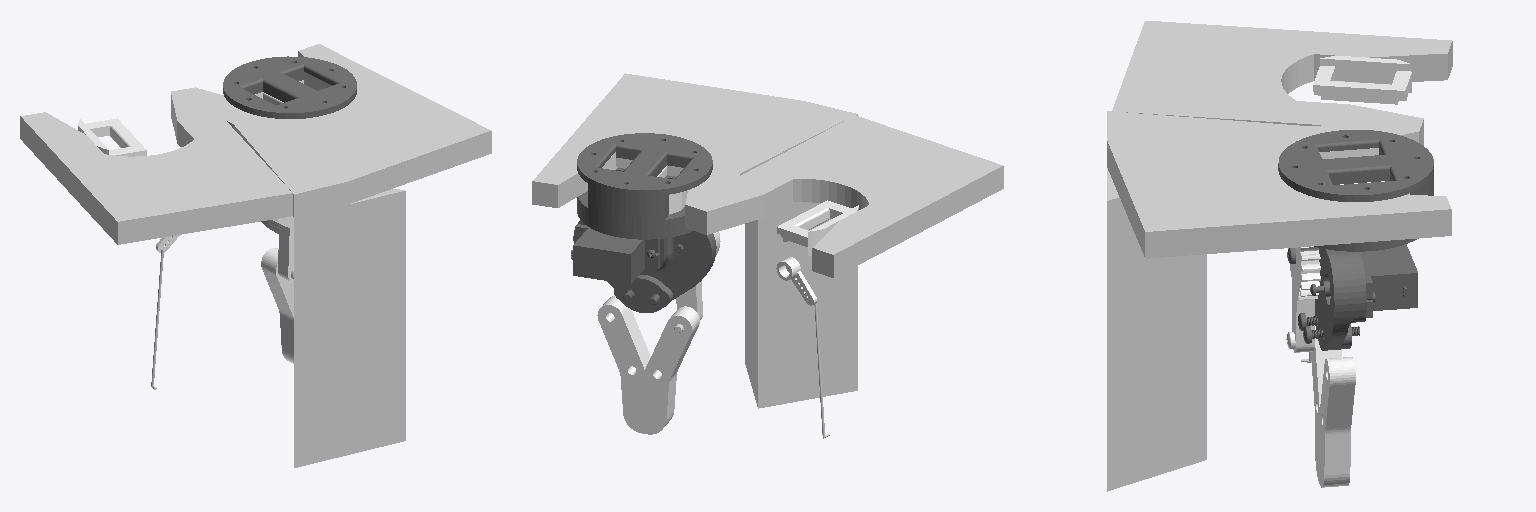
URDF robot description (holdassem):
<?xml version="1.0" encoding="utf-8"?>
<!-- This URDF was automatically created by SolidWorks to URDF Exporter! Originally created by Stephen Brawner (brawner@gmail.com) 
     Commit Version: 1.6.0-4-g7f85cfe  Build Version: 1.6.7995.38578
     For more information, please see http://wiki.ros.org/sw_urdf_exporter -->
<robot
  name="holdassem">
  <link
    name="hbase">
    <inertial>
      <origin
        xyz="-0.0080385 0.021105 0.086708"
        rpy="0 0 0" />
      <mass
        value="0.21146" />
      <inertia
        ixx="0.0001836"
        ixy="1.1259E-06"
        ixz="4.5959E-06"
        iyy="0.00016487"
        iyz="-4.0686E-06"
        izz="0.00016525" />
    </inertial>
    <visual>
      <origin
        xyz="0 0 0"
        rpy="0 0 0" />
      <geometry>
        <mesh
          filename="package://holdassem/meshes/hbase.STL" />
      </geometry>
      <material
        name="">
        <color
          rgba="0.89412 0.89412 0.89412 1" />
      </material>
    </visual>
    <collision>
      <origin
        xyz="0 0 0"
        rpy="0 0 0" />
      <geometry>
        <mesh
          filename="package://holdassem/meshes/hbase.STL" />
      </geometry>
    </collision>
  </link>
  <link
    name="connector">
    <inertial>
      <origin
        xyz="0.00275 -0.00097993 -0.022656"
        rpy="0 0 0" />
      <mass
        value="0.044045" />
      <inertia
        ixx="1.1484E-05"
        ixy="2.3397E-07"
        ixz="6.6588E-07"
        iyy="1.0882E-05"
        iyz="-1.188E-06"
        izz="1.1654E-05" />
    </inertial>
    <visual>
      <origin
        xyz="0 0 0"
        rpy="0 0 0" />
      <geometry>
        <mesh
          filename="package://holdassem/meshes/connector.STL" />
      </geometry>
      <material
        name="">
        <color
          rgba="0.5 0.5 0.5 1" />
      </material>
    </visual>
    <collision>
      <origin
        xyz="0 0 0"
        rpy="0 0 0" />
      <geometry>
        <mesh
          filename="package://holdassem/meshes/connector.STL" />
      </geometry>
    </collision>
  </link>
  <joint
    name="jconnector"
    type="prismatic">
    <origin
      xyz="0.020445 0.069272 0.115"
      rpy="0 0 0" />
    <parent
      link="hbase" />
    <child
      link="connector" />
    <axis
      xyz="0.17365 -0.98481 0" />
    <limit
      lower="0"
      upper="0.04"
      effort="0"
      velocity="0" />
  </joint>
  <link
    name="sgear">
    <inertial>
      <origin
        xyz="-0.00090699 0.0018177 -0.0067816"
        rpy="0 0 0" />
      <mass
        value="0.0055987" />
      <inertia
        ixx="6.5667E-07"
        ixy="-1.7917E-08"
        ixz="-3.3845E-09"
        iyy="7.5417E-07"
        iyz="1.0732E-08"
        izz="1.3426E-07" />
    </inertial>
    <visual>
      <origin
        xyz="0 0 0"
        rpy="0 0 0" />
      <geometry>
        <mesh
          filename="package://holdassem/meshes/sgear.STL" />
      </geometry>
      <material
        name="">
        <color
          rgba="1 1 1 1" />
      </material>
    </visual>
    <collision>
      <origin
        xyz="0 0 0"
        rpy="0 0 0" />
      <geometry>
        <mesh
          filename="package://holdassem/meshes/sgear.STL" />
      </geometry>
    </collision>
  </link>
  <joint
    name="jsgear"
    type="revolute">
    <origin
      xyz="0.018779 -0.014646 -0.0365"
      rpy="0 0 0" />
    <parent
      link="connector" />
    <child
      link="sgear" />
    <axis
      xyz="0.17365 -0.98481 0" />
    <limit
      lower="-0.8"
      upper="0"
      effort="0"
      velocity="0" />
  </joint>
  <link
    name="sfinger">
    <inertial>
      <origin
        xyz="-0.0061362 -0.001082 -0.019217"
        rpy="0 0 0" />
      <mass
        value="0.0049563" />
      <inertia
        ixx="9.4935E-07"
        ixy="-1.1677E-08"
        ixz="-2.1279E-07"
        iyy="1.0135E-06"
        iyz="-3.752E-08"
        izz="1.2796E-07" />
    </inertial>
    <visual>
      <origin
        xyz="0 0 0"
        rpy="0 0 0" />
      <geometry>
        <mesh
          filename="package://holdassem/meshes/sfinger.STL" />
      </geometry>
      <material
        name="">
        <color
          rgba="1 1 1 1" />
      </material>
    </visual>
    <collision>
      <origin
        xyz="0 0 0"
        rpy="0 0 0" />
      <geometry>
        <mesh
          filename="package://holdassem/meshes/sfinger.STL" />
      </geometry>
    </collision>
  </link>
  <joint
    name="jsfinger"
    type="revolute">
    <origin
      xyz="-0.0026832 0.0094781 -0.030734"
      rpy="0 0 0" />
    <parent
      link="sgear" />
    <child
      link="sfinger" />
    <axis
      xyz="0.17365 -0.98481 0" />
    <limit
      lower="0"
      upper="0.8"
      effort="0"
      velocity="0" />
    <mimic
      joint="jsgear"
      multiplier="-1"
      offset="0" />
  </joint>
  <link
    name="slink">
    <inertial>
      <origin
        xyz="-0.0014048 0.0058969 -0.016516"
        rpy="0 0 0" />
      <mass
        value="0.002206" />
      <inertia
        ixx="2.7018E-07"
        ixy="8.5815E-11"
        ixz="-5.4876E-09"
        iyy="2.6971E-07"
        iyz="-9.6761E-10"
        izz="1.427E-08" />
    </inertial>
    <visual>
      <origin
        xyz="0 0 0"
        rpy="0 0 0" />
      <geometry>
        <mesh
          filename="package://holdassem/meshes/slink.STL" />
      </geometry>
      <material
        name="">
        <color
          rgba="1 1 1 1" />
      </material>
    </visual>
    <collision>
      <origin
        xyz="0 0 0"
        rpy="0 0 0" />
      <geometry>
        <mesh
          filename="package://holdassem/meshes/slink.STL" />
      </geometry>
    </collision>
  </link>
  <joint
    name="jslink"
    type="revolute">
    <origin
      xyz="0.0093974 -0.012696 -0.0565"
      rpy="0 0 0" />
    <parent
      link="connector" />
    <child
      link="slink" />
    <axis
      xyz="0.17365 -0.98481 0" />
    <limit
      lower="-0.8"
      upper="0"
      effort="0"
      velocity="0" />
    <mimic
      joint="jsgear"
      multiplier="1"
      offset="0" />
  </joint>
  <link
    name="gear">
    <inertial>
      <origin
        xyz="0.0003177 0.00011857 -0.0062925"
        rpy="0 0 0" />
      <mass
        value="0.0052567" />
      <inertia
        ixx="7.2033E-07"
        ixy="-2.563E-08"
        ixz="-3.8505E-08"
        iyy="8.6117E-07"
        iyz="-6.7894E-09"
        izz="1.8982E-07" />
    </inertial>
    <visual>
      <origin
        xyz="0 0 0"
        rpy="0 0 0" />
      <geometry>
        <mesh
          filename="package://holdassem/meshes/gear.STL" />
      </geometry>
      <material
        name="">
        <color
          rgba="1 1 1 1" />
      </material>
    </visual>
    <collision>
      <origin
        xyz="0 0 0"
        rpy="0 0 0" />
      <geometry>
        <mesh
          filename="package://holdassem/meshes/gear.STL" />
      </geometry>
    </collision>
  </link>
  <joint
    name="gear"
    type="revolute">
    <origin
      xyz="-0.0081555 -0.016806 -0.0365"
      rpy="0 0 0" />
    <parent
      link="connector" />
    <child
      link="gear" />
    <axis
      xyz="-0.17365 0.98481 0" />
    <limit
      lower="-0.8"
      upper="0"
      effort="0"
      velocity="0" />
    <mimic
      joint="jsgear"
      multiplier="1"
      offset="0" />
  </joint>
  <link
    name="finger">
    <inertial>
      <origin
        xyz="0.0061173 0.0010787 -0.019223"
        rpy="0 0 0" />
      <mass
        value="0.0049563" />
      <inertia
        ixx="9.4977E-07"
        ixy="-1.1603E-08"
        ixz="2.1198E-07"
        iyy="1.0135E-06"
        iyz="3.7378E-08"
        izz="1.2753E-07" />
    </inertial>
    <visual>
      <origin
        xyz="0 0 0"
        rpy="0 0 0" />
      <geometry>
        <mesh
          filename="package://holdassem/meshes/finger.STL" />
      </geometry>
      <material
        name="">
        <color
          rgba="1 1 1 1" />
      </material>
    </visual>
    <collision>
      <origin
        xyz="0 0 0"
        rpy="0 0 0" />
      <geometry>
        <mesh
          filename="package://holdassem/meshes/finger.STL" />
      </geometry>
    </collision>
  </link>
  <joint
    name="jfinger"
    type="revolute">
    <origin
      xyz="-0.0024724 0.0069259 -0.030725"
      rpy="0 0 0" />
    <parent
      link="gear" />
    <child
      link="finger" />
    <axis
      xyz="-0.17365 0.98481 0" />
    <limit
      lower="0"
      upper="0.8"
      effort="0"
      velocity="0" />
    <mimic
      joint="gear"
      multiplier="-1"
      offset="0" />
  </joint>
  <link
    name="link">
    <inertial>
      <origin
        xyz="-0.0014048 0.0058969 -0.016516"
        rpy="0 0 0" />
      <mass
        value="0.002206" />
      <inertia
        ixx="2.7018E-07"
        ixy="8.5815E-11"
        ixz="-5.4876E-09"
        iyy="2.6971E-07"
        iyz="-9.6761E-10"
        izz="1.427E-08" />
    </inertial>
    <visual>
      <origin
        xyz="0 0 0"
        rpy="0 0 0" />
      <geometry>
        <mesh
          filename="package://holdassem/meshes/link.STL" />
      </geometry>
      <material
        name="">
        <color
          rgba="1 1 1 1" />
      </material>
    </visual>
    <collision>
      <origin
        xyz="0 0 0"
        rpy="0 0 0" />
      <geometry>
        <mesh
          filename="package://holdassem/meshes/link.STL" />
      </geometry>
    </collision>
  </link>
  <joint
    name="jlink"
    type="revolute">
    <origin
      xyz="-0.00045071 -0.014432 -0.0565"
      rpy="0 0 0" />
    <parent
      link="connector" />
    <child
      link="link" />
    <axis
      xyz="0.17365 -0.98481 0" />
    <limit
      lower="0"
      upper="0.8"
      effort="0"
      velocity="0" />
    <mimic
      joint="gear"
      multiplier="-1"
      offset="0" />
  </joint>
  <link
    name="button1">
    <inertial>
      <origin
        xyz="-0.78409 -0.83398 -1.2914"
        rpy="0 0 0" />
      <mass
        value="0.0018987" />
      <inertia
        ixx="1.633E-07"
        ixy="1.3685E-08"
        ixz="3.6803E-10"
        iyy="8.8105E-08"
        iyz="6.4894E-11"
        izz="2.3438E-07" />
    </inertial>
    <visual>
      <origin
        xyz="0 0 0"
        rpy="0 0 0" />
      <geometry>
        <mesh
          filename="package://holdassem/meshes/button1.STL" />
      </geometry>
      <material
        name="">
        <color
          rgba="1 1 1 1" />
      </material>
    </visual>
    <collision>
      <origin
        xyz="0 0 0"
        rpy="0 0 0" />
      <geometry>
        <mesh
          filename="package://holdassem/meshes/button1.STL" />
      </geometry>
    </collision>
  </link>
  <joint
    name="jbutton1"
    type="prismatic">
    <origin
      xyz="0.79372 0.83568 1.284"
      rpy="0 0 0" />
    <parent
      link="connector" />
    <child
      link="button1" />
    <axis
      xyz="0.98481 0.17365 0" />
    <limit
      lower="-0.004"
      upper="0"
      effort="0"
      velocity="0" />
  </joint>
  <link
    name="button2">
    <inertial>
      <origin
        xyz="-0.81402 -0.83738 -1.2914"
        rpy="0 0 0" />
      <mass
        value="0.0018987" />
      <inertia
        ixx="1.633E-07"
        ixy="1.3685E-08"
        ixz="-3.6803E-10"
        iyy="8.8105E-08"
        iyz="-6.4894E-11"
        izz="2.3438E-07" />
    </inertial>
    <visual>
      <origin
        xyz="0 0 0"
        rpy="0 0 0" />
      <geometry>
        <mesh
          filename="package://holdassem/meshes/button2.STL" />
      </geometry>
      <material
        name="">
        <color
          rgba="1 1 1 1" />
      </material>
    </visual>
    <collision>
      <origin
        xyz="0 0 0"
        rpy="0 0 0" />
      <geometry>
        <mesh
          filename="package://holdassem/meshes/button2.STL" />
      </geometry>
    </collision>
  </link>
  <joint
    name="jbutton2"
    type="prismatic">
    <origin
      xyz="0.80439 0.83568 1.284"
      rpy="0 0 0" />
    <parent
      link="connector" />
    <child
      link="button2" />
    <axis
      xyz="0.98481 0.17365 0" />
    <limit
      lower="0"
      upper="0.004"
      effort="0"
      velocity="0" />
    <mimic
      joint="jbutton1"
      multiplier="-1"
      offset="0" />
  </joint>
  <link
    name="mconnector">
    <inertial>
      <origin
        xyz="0 0 0"
        rpy="0 0 0" />
      <mass
        value="0" />
      <inertia
        ixx="0"
        ixy="0"
        ixz="0"
        iyy="0"
        iyz="0"
        izz="0" />
    </inertial>
    <visual>
      <origin
        xyz="0 0 0"
        rpy="0 0 0" />
      <geometry>
        <mesh
          filename="package://holdassem/meshes/mconnector.STL" />
      </geometry>
      <material
        name="">
        <color
          rgba="0.5 0.5 0.5 1" />
      </material>
    </visual>
    <collision>
      <origin
        xyz="0 0 0"
        rpy="0 0 0" />
      <geometry>
        <mesh
          filename="package://holdassem/meshes/mconnector.STL" />
      </geometry>
    </collision>
  </link>
  <joint
    name="jmconnector"
    type="prismatic">
    <origin
      xyz="-0.046918 0.070176 0.115"
      rpy="0 0 0" />
    <parent
      link="hbase" />
    <child
      link="mconnector" />
    <axis
      xyz="-0.15239 -0.98832 0" />
    <limit
      lower="0"
      upper="0.04"
      effort="0"
      velocity="0" />
  </joint>
  <link
    name="horn">
    <inertial>
      <origin
        xyz="-0.0024811 0.001454 -0.0028938"
        rpy="0 0 0" />
      <mass
        value="0.0017572" />
      <inertia
        ixx="3.3277E-08"
        ixy="-3.9132E-11"
        ixz="-2.2877E-08"
        iyy="5.8263E-08"
        iyz="-6.3455E-10"
        izz="3.0303E-08" />
    </inertial>
    <visual>
      <origin
        xyz="0 0 0"
        rpy="0 0 0" />
      <geometry>
        <mesh
          filename="package://holdassem/meshes/horn.STL" />
      </geometry>
      <material
        name="">
        <color
          rgba="1 1 1 1" />
      </material>
    </visual>
    <collision>
      <origin
        xyz="0 0 0"
        rpy="0 0 0" />
      <geometry>
        <mesh
          filename="package://holdassem/meshes/horn.STL" />
      </geometry>
    </collision>
  </link>
  <joint
    name="jhorn"
    type="revolute">
    <origin
      xyz="0.013671 -0.016005 -0.0365"
      rpy="0 0 0" />
    <parent
      link="mconnector" />
    <child
      link="horn" />
    <axis
      xyz="0.15239 0.98832 0" />
    <limit
      lower="-0.8"
      upper="0"
      effort="0"
      velocity="0" />
  </joint>
  <link
    name="rod">
    <inertial>
      <origin
        xyz="-0.002235 -0.0011521 -0.027471"
        rpy="0 0 0" />
      <mass
        value="4.7921E-05" />
      <inertia
        ixx="1.4402E-08"
        ixy="-3.6172E-12"
        ixz="-1.0813E-09"
        iyy="1.4472E-08"
        iyz="-2.539E-11"
        izz="9.865E-11" />
    </inertial>
    <visual>
      <origin
        xyz="0 0 0"
        rpy="0 0 0" />
      <geometry>
        <mesh
          filename="package://holdassem/meshes/rod.STL" />
      </geometry>
      <material
        name="">
        <color
          rgba="0.89412 0.89412 0.89412 1" />
      </material>
    </visual>
    <collision>
      <origin
        xyz="0 0 0"
        rpy="0 0 0" />
      <geometry>
        <mesh
          filename="package://holdassem/meshes/rod.STL" />
      </geometry>
    </collision>
  </link>
  <joint
    name="jrod"
    type="revolute">
    <origin
      xyz="-0.0097633 0.0012314 -0.010608"
      rpy="0 0 0" />
    <parent
      link="horn" />
    <child
      link="rod" />
    <axis
      xyz="0.15239 0.98832 0" />
    <limit
      lower="0"
      upper="0.88"
      effort="0"
      velocity="0" />
    <mimic
      joint="jhorn"
      multiplier="-1.1"
      offset="0" />
  </joint>
  <link
    name="magnet">
    <inertial>
      <origin
        xyz="-2.299E-05 -0.00016933 -0.0038585"
        rpy="0 0 0" />
      <mass
        value="0.00040354" />
      <inertia
        ixx="3.4288E-09"
        ixy="3.1822E-13"
        ixz="1.2207E-23"
        iyy="3.4308E-09"
        iyz="-1.9447E-24"
        izz="4.9181E-09" />
    </inertial>
    <visual>
      <origin
        xyz="0 0 0"
        rpy="0 0 0" />
      <geometry>
        <mesh
          filename="package://holdassem/meshes/magnet.STL" />
      </geometry>
      <material
        name="">
        <color
          rgba="0 0 0 1" />
      </material>
    </visual>
    <collision>
      <origin
        xyz="0 0 0"
        rpy="0 0 0" />
      <geometry>
        <mesh
          filename="package://holdassem/meshes/magnet.STL" />
      </geometry>
    </collision>
  </link>
  <joint
    name="jmagnet"
    type="continuous">
    <origin
      xyz="-0.0044694 -0.0023041 -0.054933"
      rpy="0 0 0" />
    <parent
      link="rod" />
    <child
      link="magnet" />
    <axis
      xyz="0.15239 0.98832 0" />
    <limit
      lower="-0.8"
      upper="0"
      effort="0"
      velocity="0" />
    <mimic
      joint="jhorn"
      multiplier="0.1"
      offset="0" />
  </joint>
  <link
    name="mbutton1">
    <inertial>
      <origin
        xyz="0.0047248 -0.00072852 0.00013509"
        rpy="0 0 0" />
      <mass
        value="0.0018987" />
      <inertia
        ixx="1.6386E-07"
        ixy="-1.2053E-08"
        ixz="3.6935E-10"
        iyy="8.755E-08"
        iyz="-5.695E-11"
        izz="2.3438E-07" />
    </inertial>
    <visual>
      <origin
        xyz="0 0 0"
        rpy="0 0 0" />
      <geometry>
        <mesh
          filename="package://holdassem/meshes/mbutton1.STL" />
      </geometry>
      <material
        name="">
        <color
          rgba="1 1 1 1" />
      </material>
    </visual>
    <collision>
      <origin
        xyz="0 0 0"
        rpy="0 0 0" />
      <geometry>
        <mesh
          filename="package://holdassem/meshes/mbutton1.STL" />
      </geometry>
    </collision>
  </link>
  <joint
    name="jmbutton1"
    type="prismatic">
    <origin
      xyz="0.0049416 -0.00076195 -0.0075"
      rpy="0 0 0" />
    <parent
      link="mconnector" />
    <child
      link="mbutton1" />
    <axis
      xyz="0.98832 -0.15239 0" />
    <limit
      lower="-0.004"
      upper="0"
      effort="0"
      velocity="0" />
  </joint>
  <link
    name="mbutton2">
    <inertial>
      <origin
        xyz="-0.0047248 0.00072852 0.00013509"
        rpy="0 0 0" />
      <mass
        value="0.0018987" />
      <inertia
        ixx="1.6386E-07"
        ixy="-1.2053E-08"
        ixz="-3.6935E-10"
        iyy="8.755E-08"
        iyz="5.695E-11"
        izz="2.3438E-07" />
    </inertial>
    <visual>
      <origin
        xyz="0 0 0"
        rpy="0 0 0" />
      <geometry>
        <mesh
          filename="package://holdassem/meshes/mbutton2.STL" />
      </geometry>
      <material
        name="">
        <color
          rgba="1 1 1 1" />
      </material>
    </visual>
    <collision>
      <origin
        xyz="0 0 0"
        rpy="0 0 0" />
      <geometry>
        <mesh
          filename="package://holdassem/meshes/mbutton2.STL" />
      </geometry>
    </collision>
  </link>
  <joint
    name="jmbutton2"
    type="prismatic">
    <origin
      xyz="-0.0049416 0.00076195 -0.0075"
      rpy="0 0 0" />
    <parent
      link="mconnector" />
    <child
      link="mbutton2" />
    <axis
      xyz="0.98832 -0.15239 0" />
    <limit
      lower="0"
      upper="0.004"
      effort="0"
      velocity="0" />
    <mimic
      joint="jmbutton1"
      multiplier="-1"
      offset="0" />
  </joint>
</robot>

--- What the picture shows (computed from the rendered views, not written in the file) ---
3 views of the same robot in one strip: view 1: azimuth 30°, elevation 25°; view 2: azimuth 150°, elevation 25°; view 3: azimuth 270°, elevation 25° (orthographic).
Model holdassem with 16 links and 15 joints (8 revolute, 1 continuous, 6 prismatic), rooted at hbase, posed all joints at 0.
Links seen in each view (by area): view 1: hbase, connector, finger, mbutton2, gear; view 2: hbase, connector, sfinger, finger, mbutton2, horn, gear; view 3: hbase, connector, mbutton2, sfinger, gear, finger.
Boxes of the visible links, x1=… form: hbase: x1=20, y1=44, x2=491, y2=467; connector: x1=223, y1=56, x2=356, y2=233; finger: x1=261, y1=248, x2=293, y2=363; mbutton2: x1=78, y1=118, x2=146, y2=156; gear: x1=273, y1=216, x2=293, y2=282; hbase: x1=532, y1=73, x2=1003, y2=408; connector: x1=571, y1=133, x2=716, y2=312; sfinger: x1=597, y1=296, x2=650, y2=433; finger: x1=645, y1=306, x2=699, y2=434; mbutton2: x1=777, y1=200, x2=858, y2=255; horn: x1=776, y1=257, x2=816, y2=305; gear: x1=674, y1=232, x2=720, y2=332; hbase: x1=1107, y1=21, x2=1452, y2=491; connector: x1=1278, y1=130, x2=1433, y2=350; mbutton2: x1=1313, y1=56, x2=1411, y2=104; sfinger: x1=1320, y1=357, x2=1355, y2=487; gear: x1=1286, y1=246, x2=1320, y2=352; finger: x1=1311, y1=326, x2=1341, y2=483.
Bounding box of the posed robot: 0.1609 × 0.1109 × 0.115 m (x, y, z).
Meshes: 16 distinct files referenced, 10 mesh visuals loaded (10 binary STL); not drawn: 6 (reference not matched to a file when rendering).
